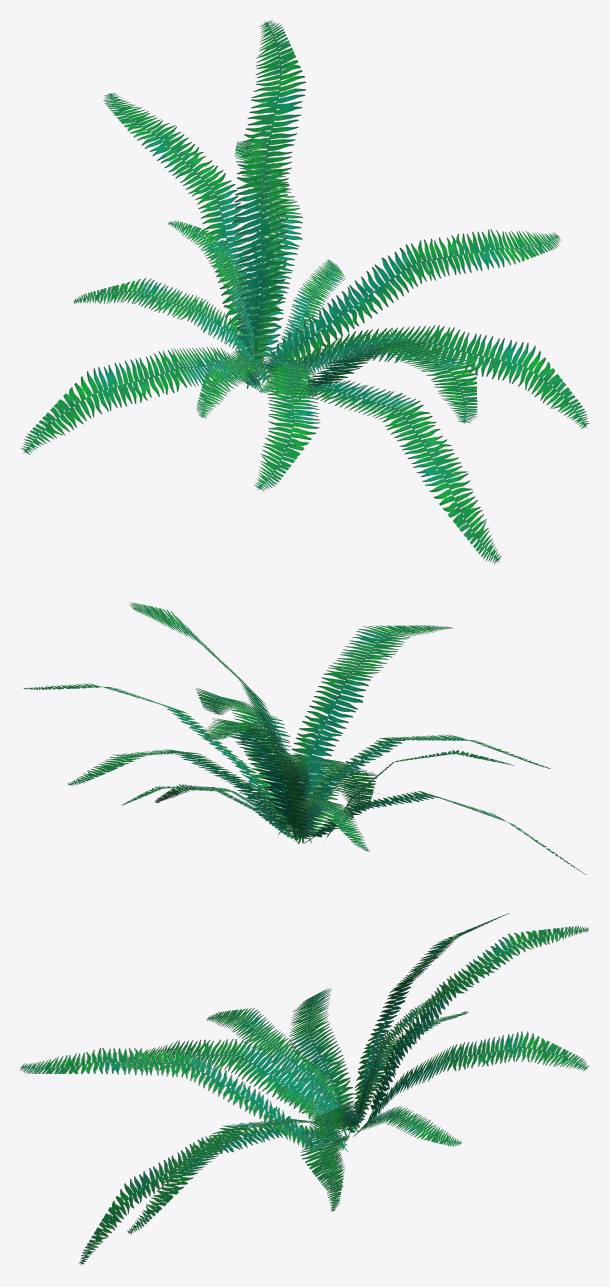
Rendered from fern_2_dream.glb.
3 views of the same model, one above another, from view 1: azimuth 30°, elevation 25°; view 2: azimuth 150°, elevation 25°; view 3: azimuth 270°, elevation 25° (orthographic). The views are drawn at different scales.
Visible parts, largest first — view 1: fern_2; view 2: fern_2; view 3: fern_2.
Part boxes in pixels (x1,y1,x2,y2): fern_2: (20,19,589,565); fern_2: (23,602,586,874); fern_2: (19,913,589,1265).
Size of the model in its own units: 5.56 by 3.61 by 5.29.
1 material, 1 textured.
